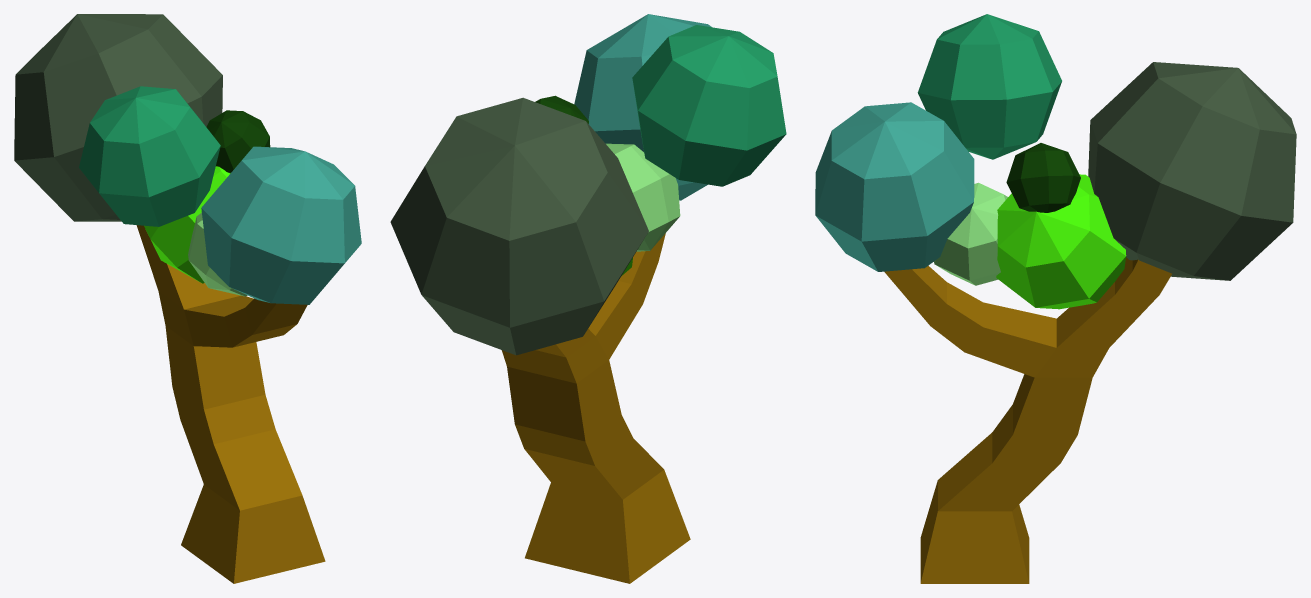
File: cartoon tree.fbx
The picture shows the model from 3 angles, left to right: view 1: azimuth 30°, elevation 25°; view 2: azimuth 150°, elevation 25°; view 3: azimuth 270°, elevation 25°; orthographic projection. The views are drawn at different scales.
Visible parts, largest first — view 1: cartoon_tree_low_poly; view 2: cartoon_tree_low_poly; view 3: cartoon_tree_low_poly.
Boxes of the visible parts, x1,y1,x2,y2 form: cartoon_tree_low_poly: (14, 14, 361, 583); cartoon_tree_low_poly: (390, 14, 786, 583); cartoon_tree_low_poly: (815, 14, 1296, 583).
Bounding box in the file's own units: 471 × 996 × 885.
